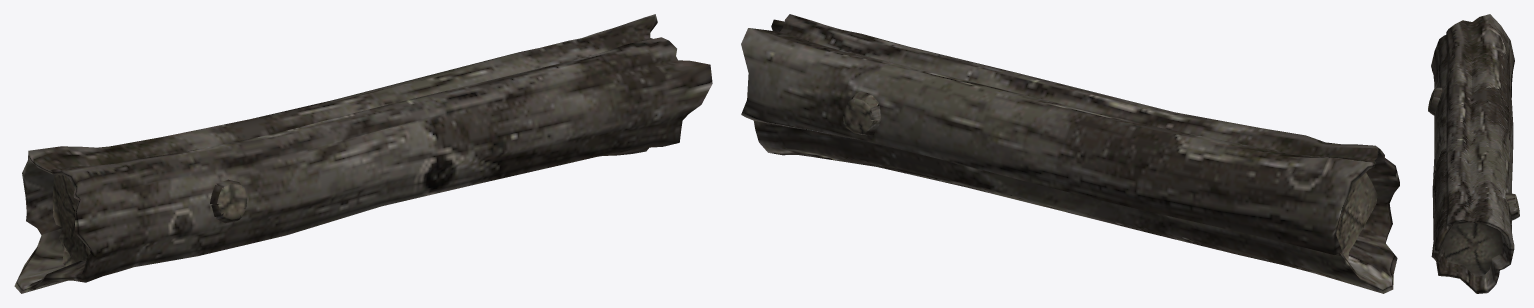
File: Log1.fbx
3 views of the same model, side by side, from view 1: azimuth 30°, elevation 25°; view 2: azimuth 150°, elevation 25°; view 3: azimuth 270°, elevation 25° (orthographic). The views are drawn at different scales.
Parts seen in each view (by area): view 1: Log1_LOD0; view 2: Log1_LOD0; view 3: Log1_LOD0.
Part boxes in pixels (bbox=[...]): Log1_LOD0: bbox=[14, 14, 712, 293]; Log1_LOD0: bbox=[741, 14, 1399, 293]; Log1_LOD0: bbox=[1428, 14, 1519, 293].
Size of what is drawn, in the model's own units: 2.1 by 0.3973 by 0.4313.
